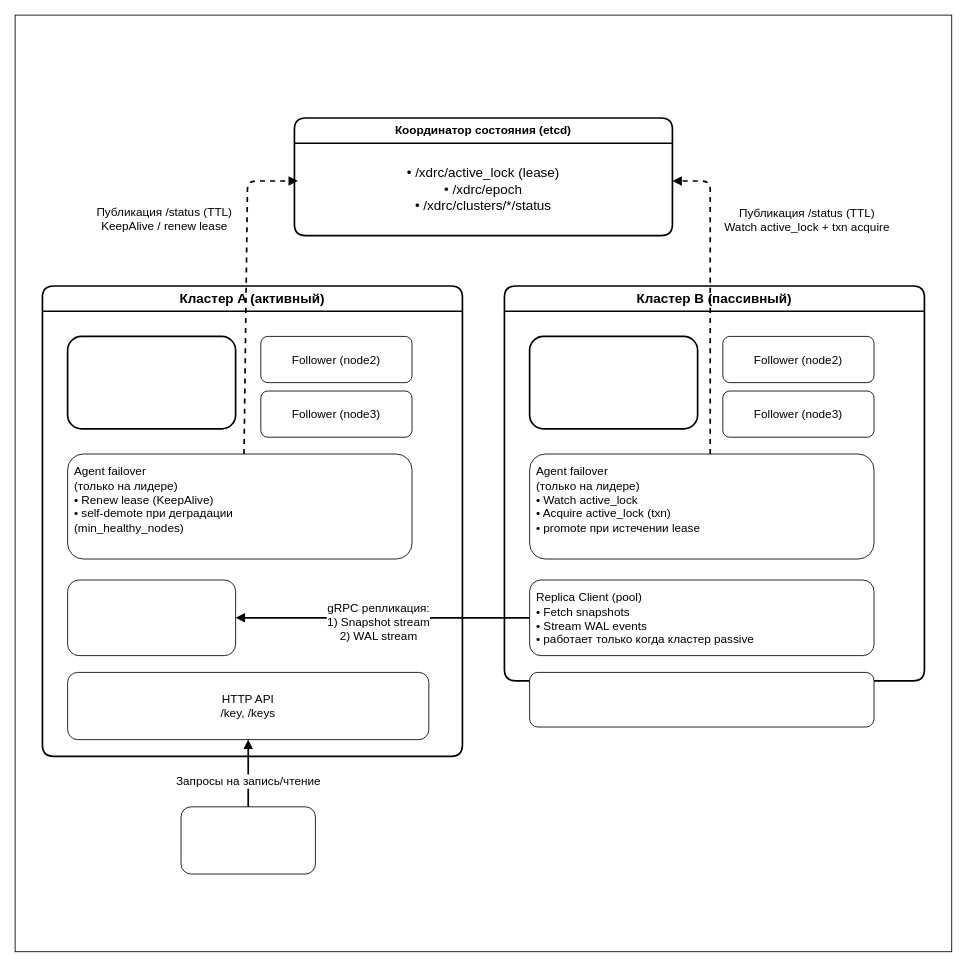
This 966x966 diagram has some shape labels left out. The shapes that lost their labels are listed below. From the top down, each one's centre as x and y in pixels, then its label:
At (x=151, y=382): "Raft-лидер (node1) • принимает записи • запускает Agent".
At (x=613, y=382): "Raft-лидер (node1) • применяет репликацию • запускает Agent".
At (x=151, y=617): "gRPC Replica Server • Snapshot stream • WAL stream".
At (x=701, y=699): "HTTP API • запись запрещена, пока passive".
At (x=247, y=840): "Клиенты (HTTP API)".
